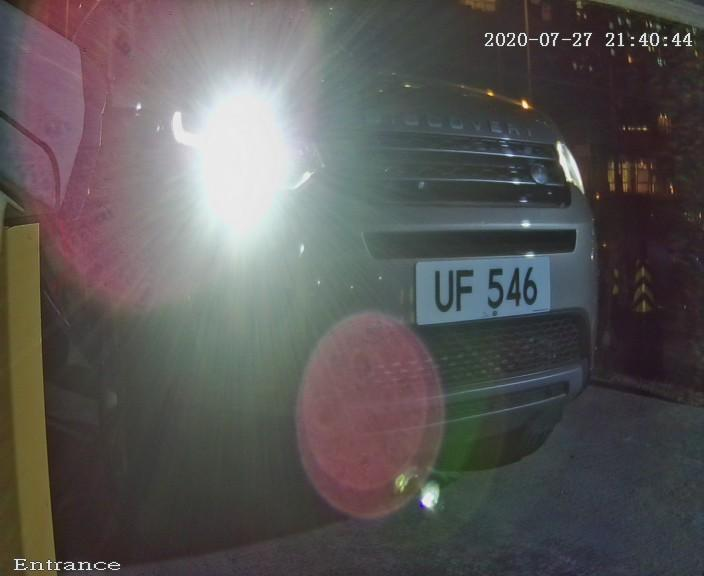privatecar: (92, 8, 654, 523)
